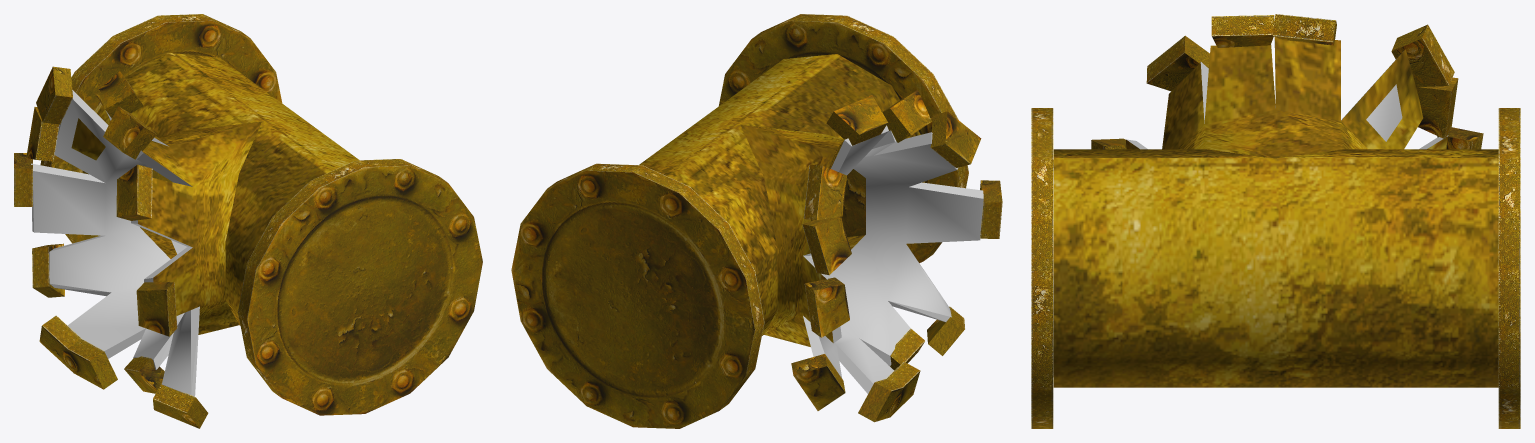
Rendered from valve_broken_yellow.DAE.
3 renders of one model, left to right at view 1: azimuth 30°, elevation 25°; view 2: azimuth 150°, elevation 25°; view 3: azimuth 270°, elevation 25°, orthographic. The views are drawn at different scales.
Parts seen in each view (by area): view 1: Box345, Box346, Object557; view 2: Box345, Box346, Object557; view 3: Box346, Box345, Object557.
Part boxes in pixels (x1,y1,x2,y2): Box345: [14, 14, 482, 428]; Box346: [71, 52, 359, 334]; Object557: [31, 90, 199, 396]; Box345: [511, 14, 1002, 428]; Box346: [639, 54, 924, 346]; Object557: [803, 125, 983, 393]; Box346: [1053, 37, 1498, 387]; Box345: [1031, 14, 1520, 428]; Object557: [1053, 41, 1448, 376].
Size of the model in its own units: 0.8559 by 1 by 0.7709.
